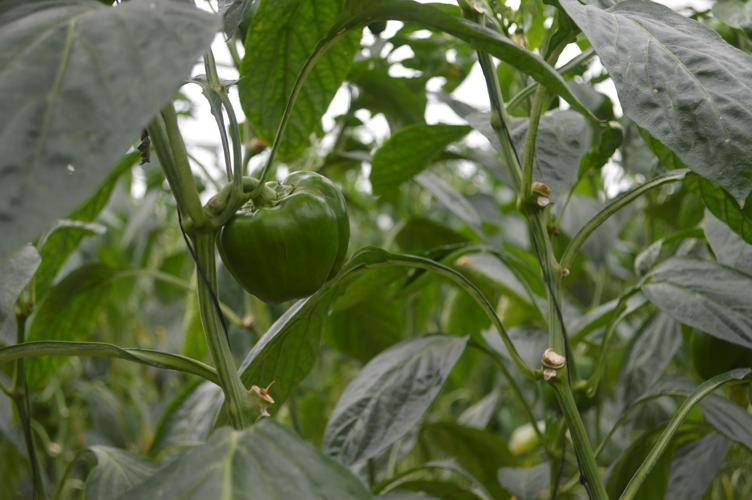BellPepper: (209, 166, 361, 305)
